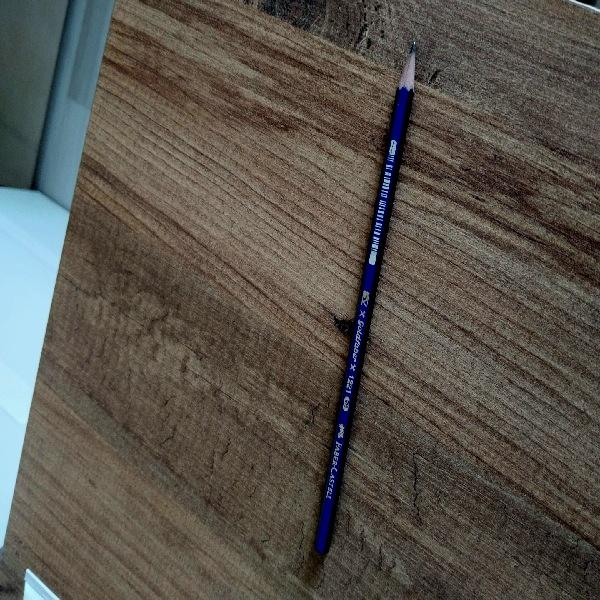pencil: (306, 34, 428, 564)
